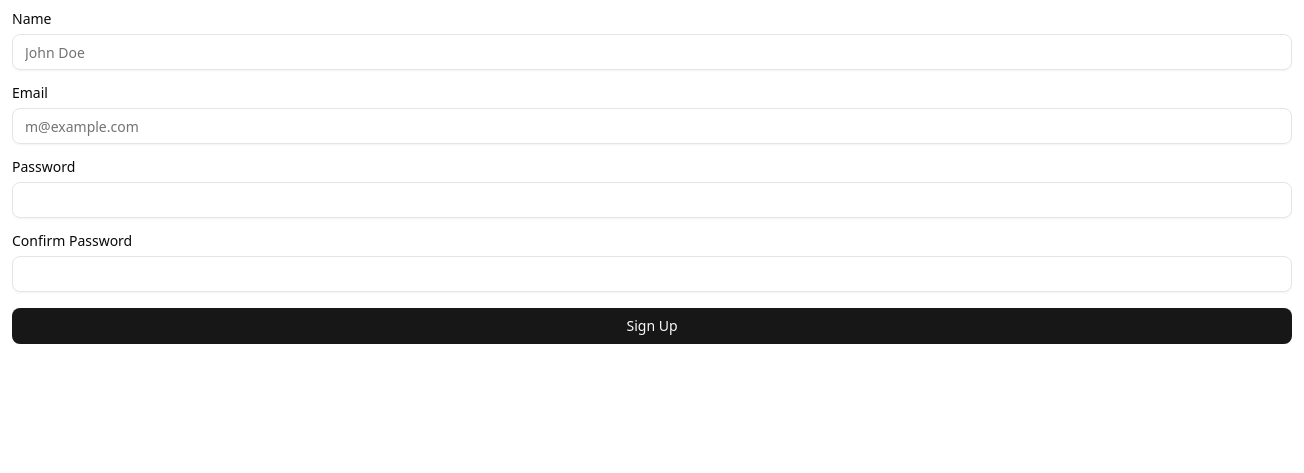
Test: SignUpForm › shows error messages for empty fields
Step 1. Click the button "Sign Up" → click(652, 326), box 12,308 -> 1292,344
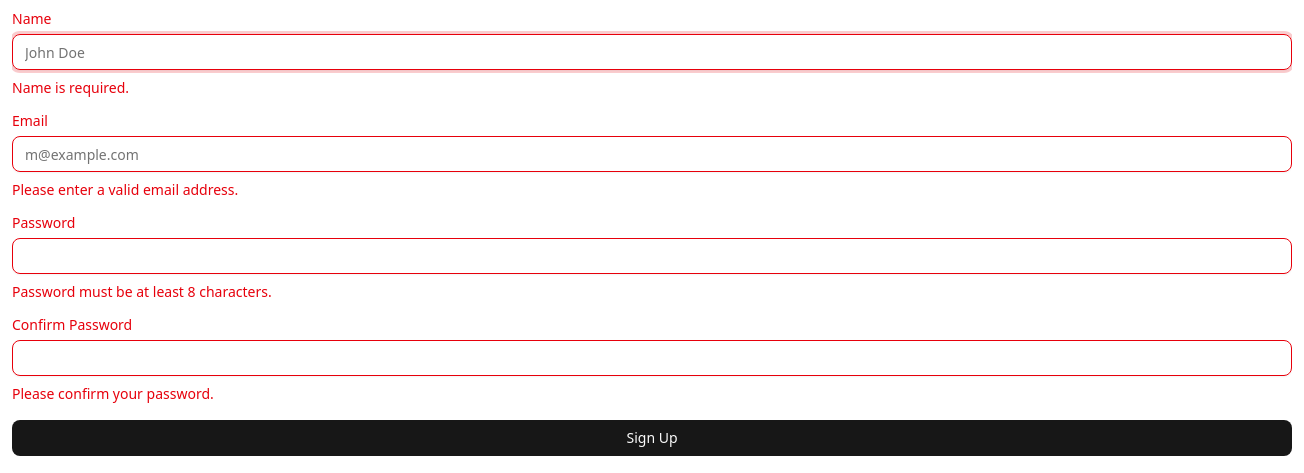
Expected: the text "Name is required." is shown, 12,78 -> 129,97
Expected: the text "Please enter a valid email address." is shown, 12,180 -> 238,199
Expected: the text "Password must be at least 8 characters." is shown, 12,282 -> 272,301
